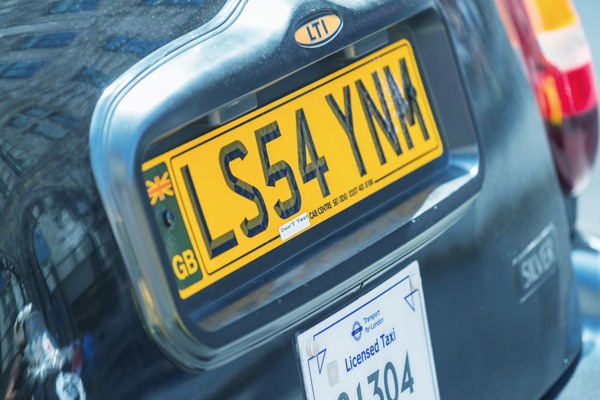license plate: (163, 17, 442, 306)
